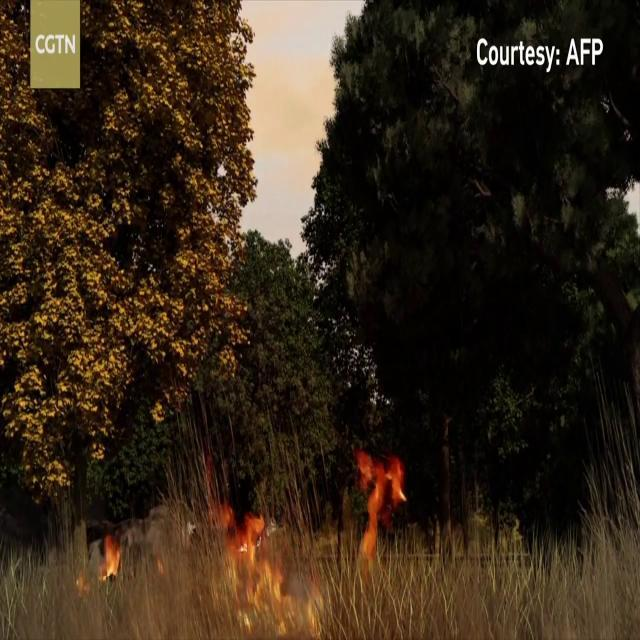Fire: (209, 502, 325, 636), (351, 444, 409, 560), (100, 528, 124, 584)
